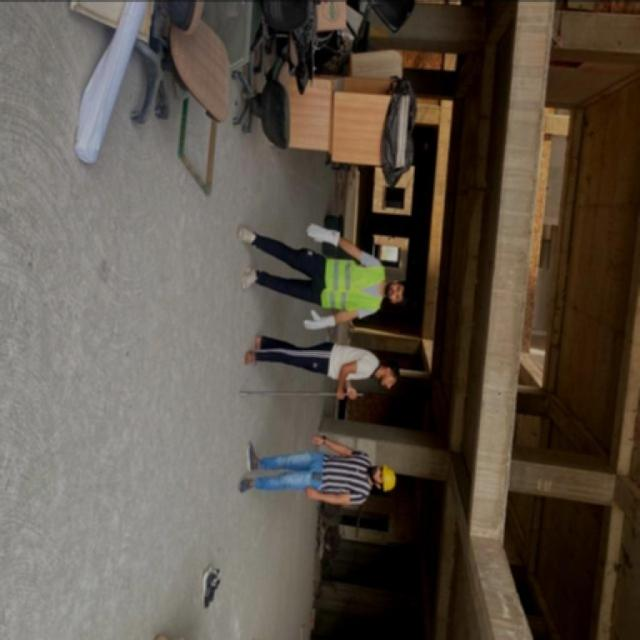Gloves-Detection: (293, 216, 342, 250), (296, 309, 342, 337)
